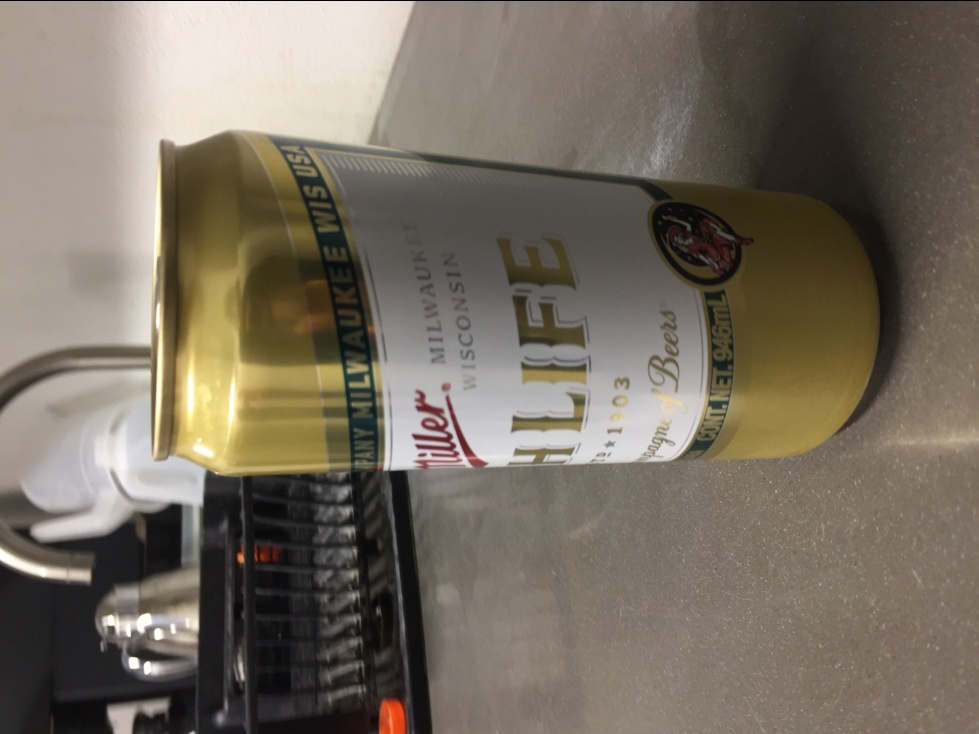miller: (148, 125, 889, 475)
